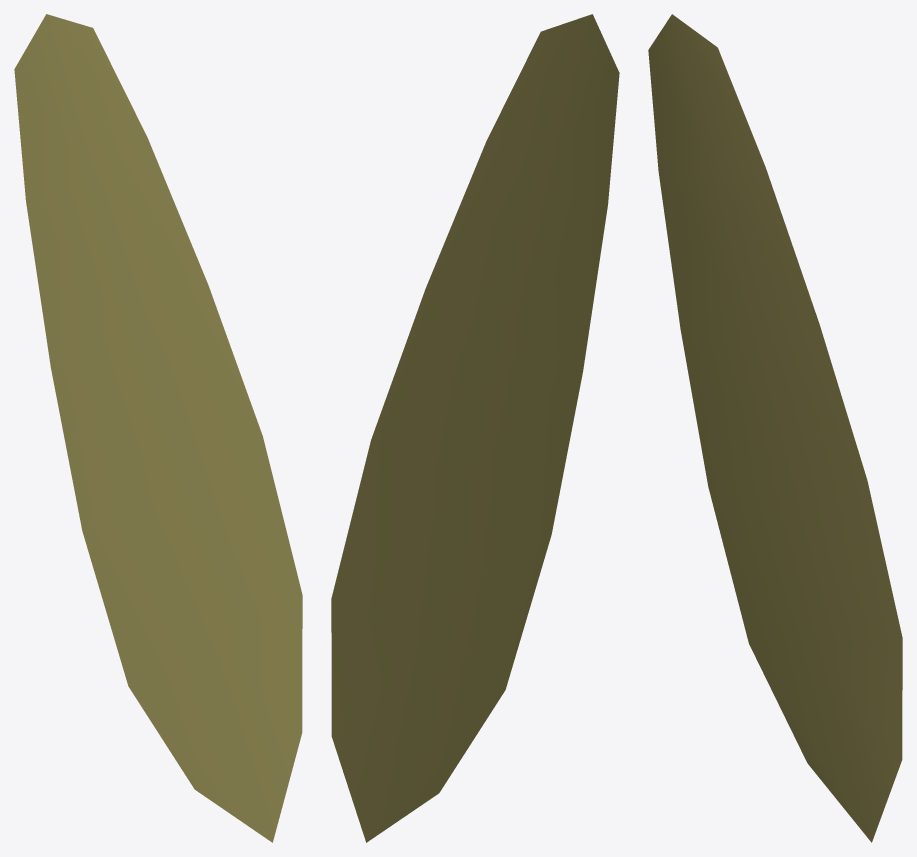
The model's file is lovebird_feather_flight_primary_009.obj.
3 renders of one model, left to right at view 1: azimuth 30°, elevation 25°; view 2: azimuth 150°, elevation 25°; view 3: azimuth 330°, elevation 25°, orthographic. The views are drawn at different scales.
Visible parts, largest first — view 1: feather_flight_primary_009; view 2: feather_flight_primary_009; view 3: feather_flight_primary_009.
Part boxes in pixels (x1=…): feather_flight_primary_009: x1=14, y1=14, x2=302, y2=842; feather_flight_primary_009: x1=331, y1=14, x2=619, y2=842; feather_flight_primary_009: x1=648, y1=14, x2=902, y2=842.
Bounding box in the file's own units: 0.0105 × 0.0308 × 0.00016.
